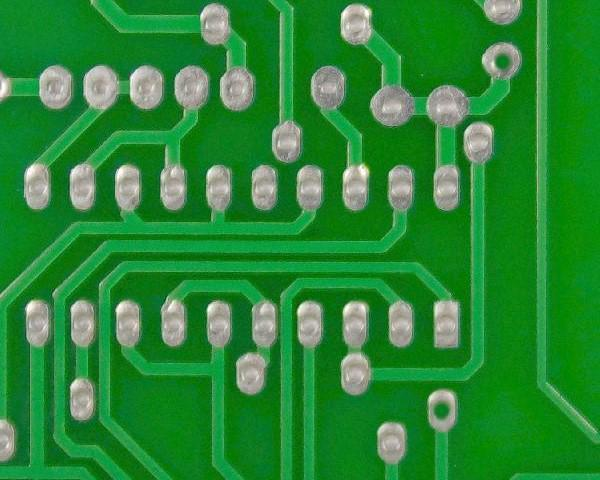missing hole: (423, 382, 465, 437), (478, 40, 528, 82)
